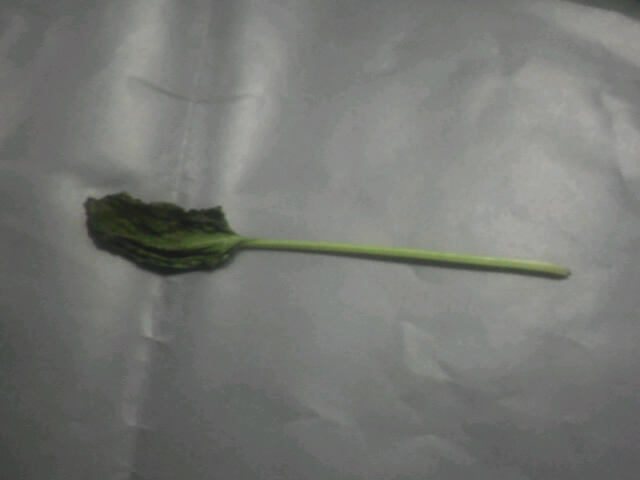yellow: (79, 178, 574, 299)
